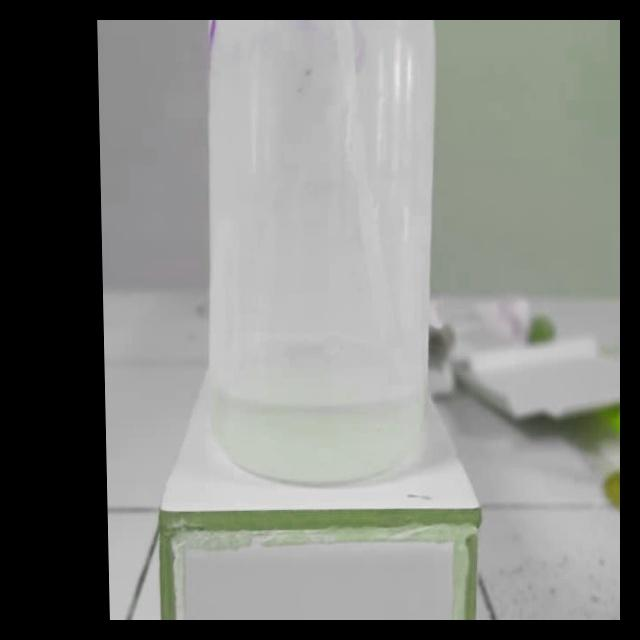Washing Bottle: (178, 20, 616, 482)
